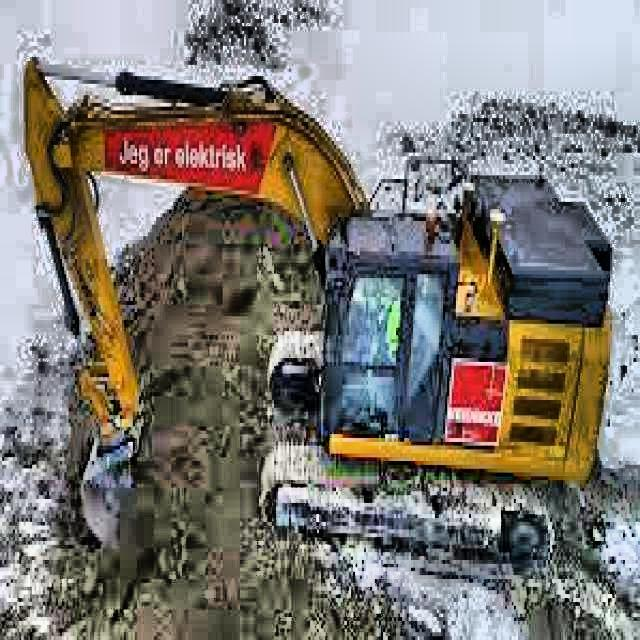bull_dozer/loader/grader: (19, 46, 616, 582)
person: (374, 286, 402, 364)
